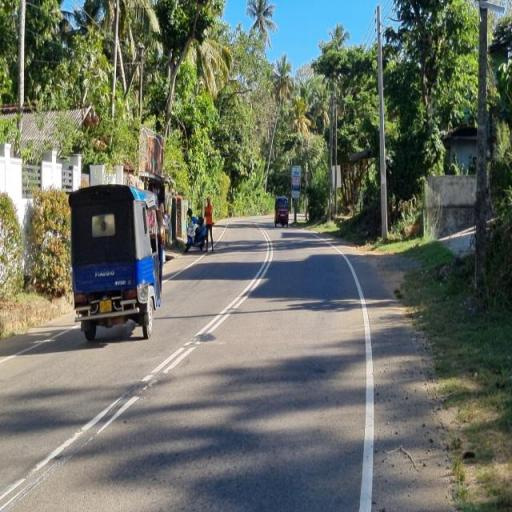double_white_line: (142, 227, 272, 392)
